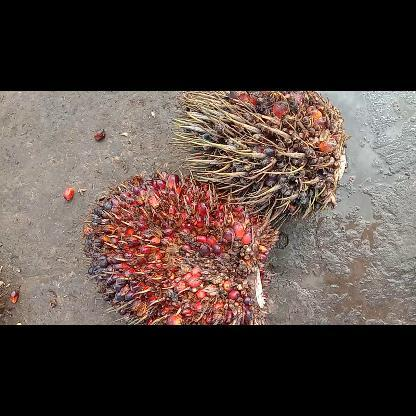TBS abnormal: (169, 90, 347, 218)
TBS masak: (84, 170, 280, 324)
